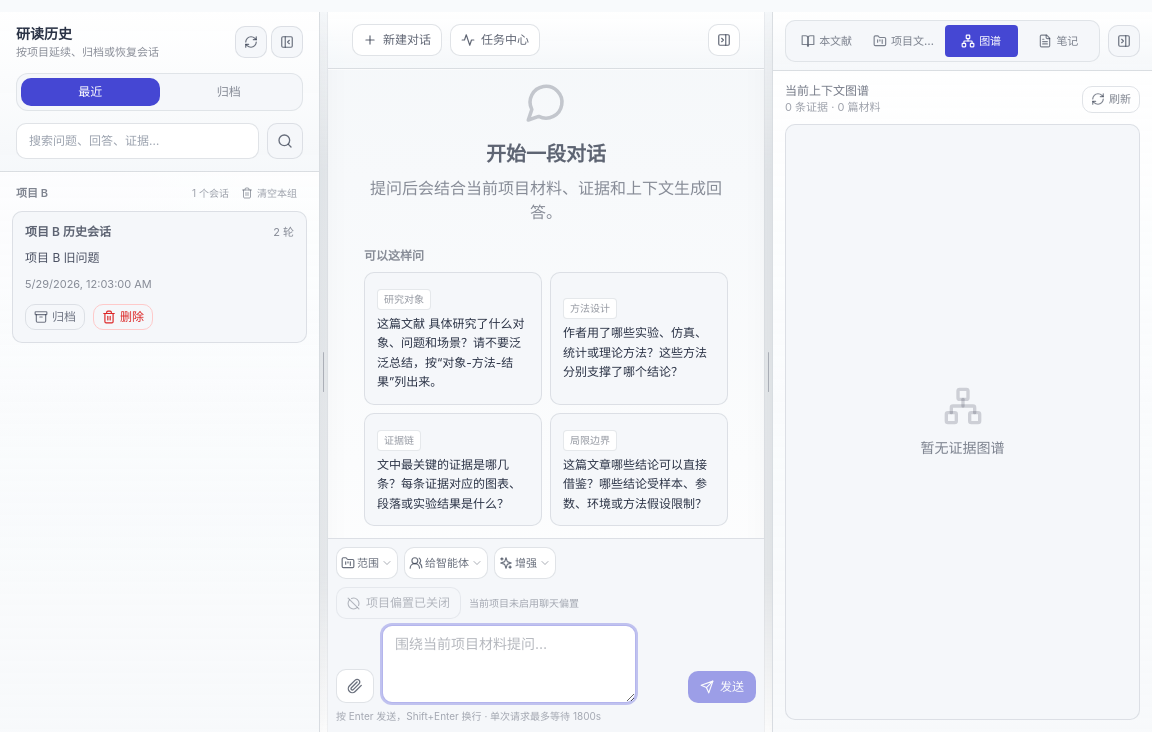
Dialog history project resume › keeps the desktop agent handoff entry visible before a receipt is available
Click the button "给智能体": [446, 563] box [404,547,488,579]
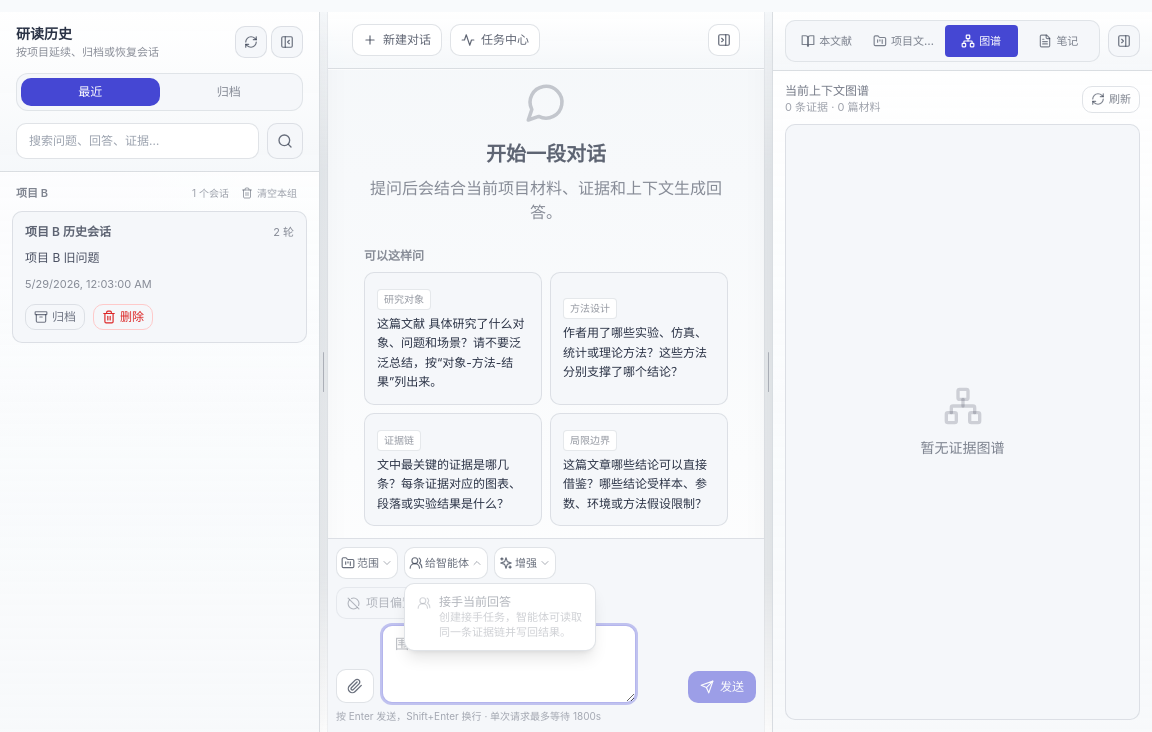
Now the menu item "接手当前回答 创建接手任务，智能体可读取同一条证据链并写回结果。" is disabled, box [409,588,591,646]
